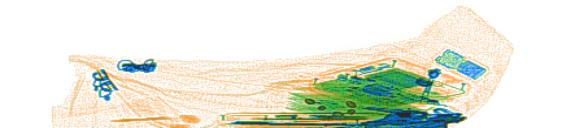USBFlashDisk: (436, 47, 489, 82)
